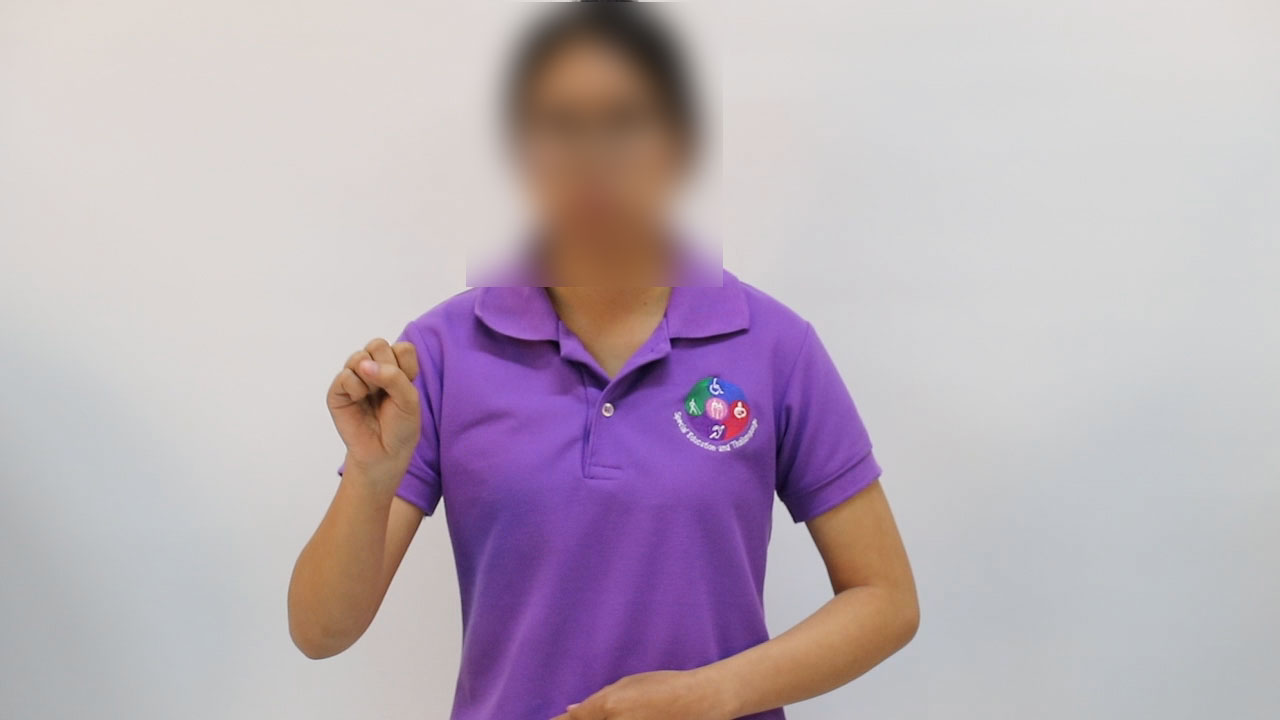sor: (311, 325, 430, 485)
